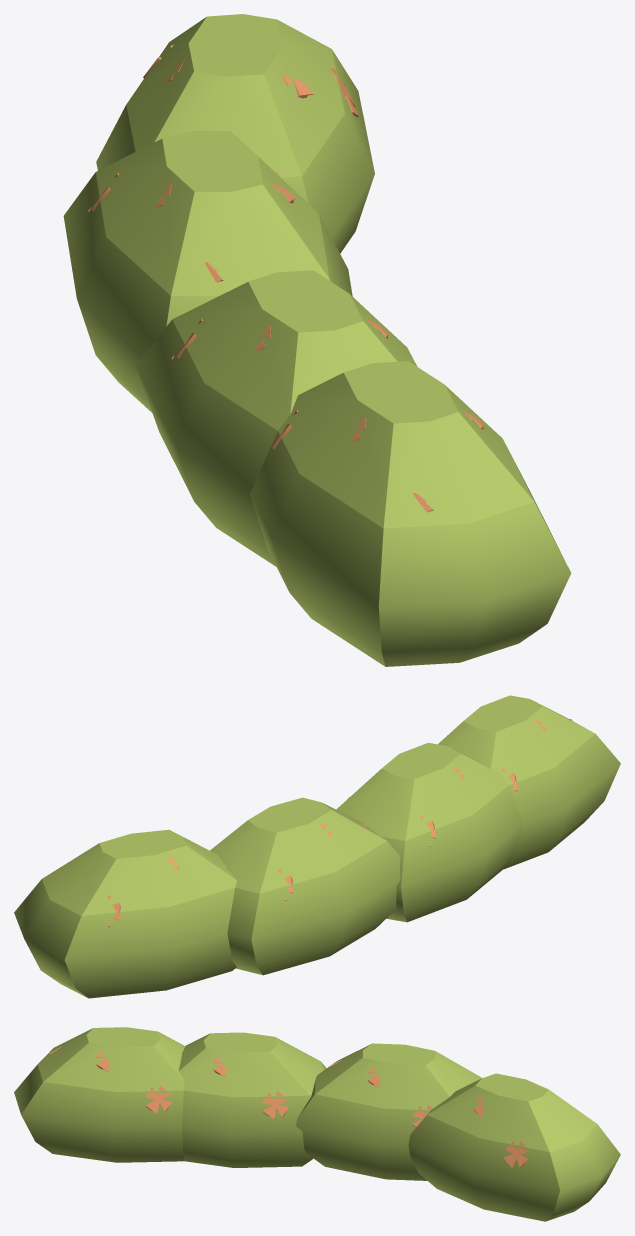
The model's file is bushes_grp_02.fbx.
3 views of the same model, one above another, from view 1: azimuth 30°, elevation 25°; view 2: azimuth 150°, elevation 25°; view 3: azimuth 270°, elevation 25° (orthographic). The views are drawn at different scales.
Parts seen in each view (by area): view 1: bush_geo (×4); view 2: bush_geo (×4); view 3: bush_geo (×4), flower_geo6 (×3).
Boxes of the visible parts, x1,y1,x2,y2 form: bush_geo (×4): (63, 14, 571, 666); bush_geo (×4): (14, 695, 620, 998); bush_geo (×4): (14, 1027, 620, 1221); flower_geo6 (×3): (145, 1085, 529, 1168).
Bounding box in the file's own units: 0.0176 × 0.00715 × 0.0359.
